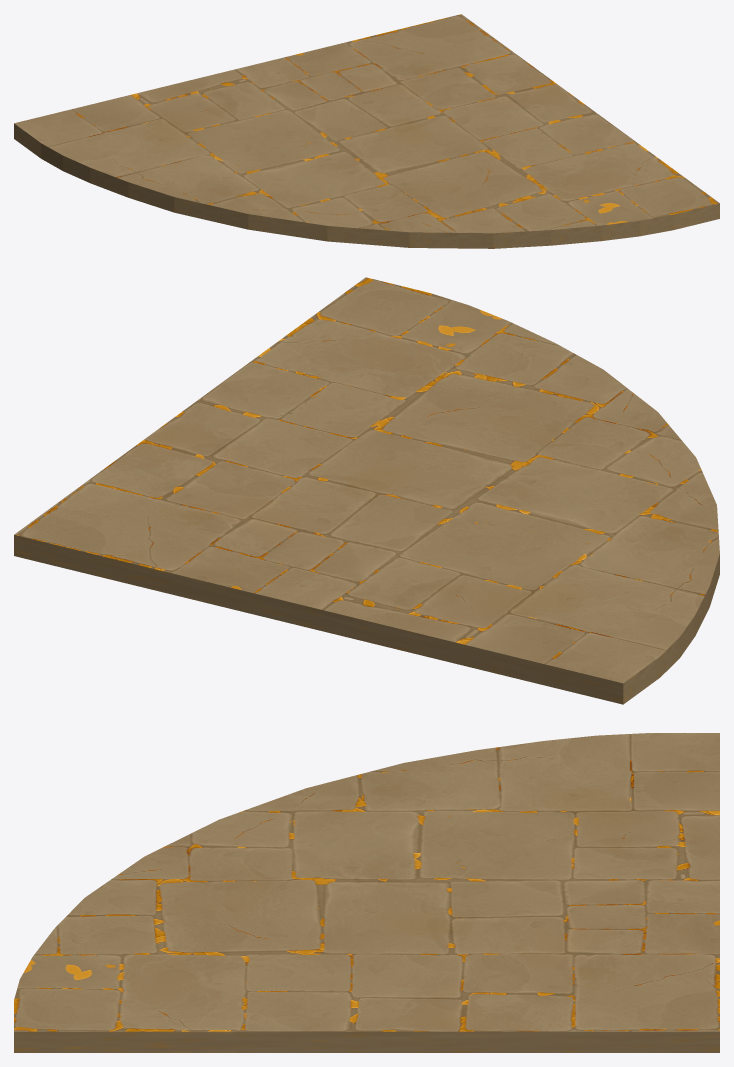
Rendered from ARC0510046.fbx.
3 renders of one model, top to bottom at view 1: azimuth 30°, elevation 25°; view 2: azimuth 150°, elevation 25°; view 3: azimuth 270°, elevation 25°, orthographic. The views are drawn at different scales.
Parts seen in each view (by area): view 1: smARC0510046; view 2: smARC0510046; view 3: smARC0510046.
Boxes of the visible parts, x1,y1,x2,y2 form: smARC0510046: (14,14,719,248); smARC0510046: (14,277,719,704); smARC0510046: (14,733,719,1052).
Bounding box in the file's own units: 300 × 10 × 300.
1 material, 1 textured.
